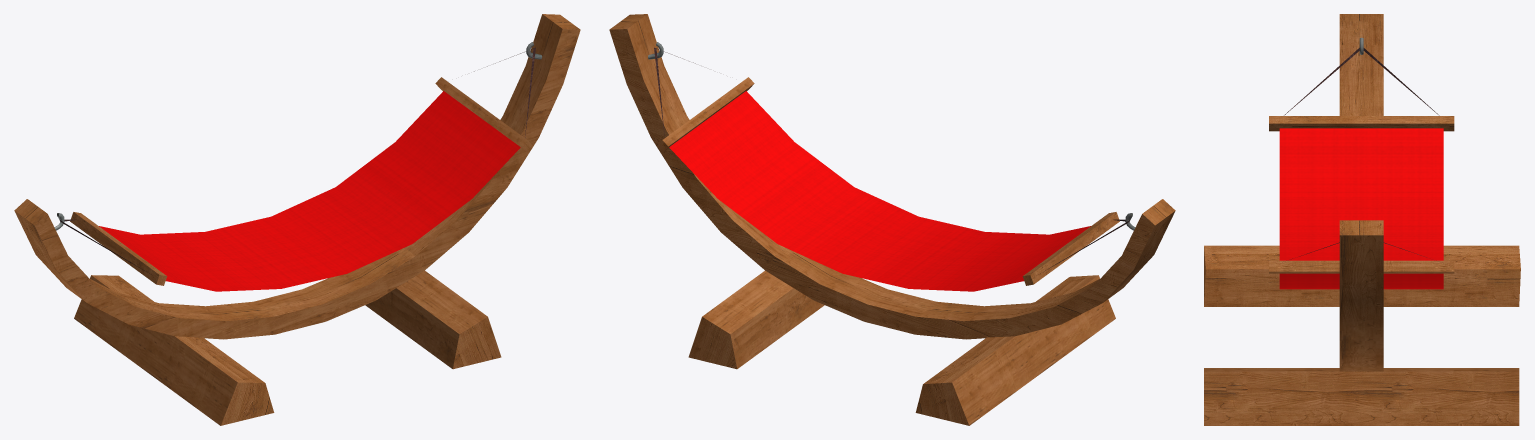
Rendered from M_Home_Garden_Bed_04.fbx.
The picture shows the model from 3 angles, left to right: view 1: azimuth 30°, elevation 25°; view 2: azimuth 150°, elevation 25°; view 3: azimuth 270°, elevation 25°; orthographic projection. The views are drawn at different scales.
Visible parts, largest first — view 1: M_Home_Garden_Bed_04; view 2: M_Home_Garden_Bed_04; view 3: M_Home_Garden_Bed_04.
Boxes of the visible parts, bbox=[...] form: M_Home_Garden_Bed_04: bbox=[14, 14, 580, 425]; M_Home_Garden_Bed_04: bbox=[609, 14, 1175, 425]; M_Home_Garden_Bed_04: bbox=[1204, 14, 1520, 425].
Size of the model in its own units: 343 by 151 by 160.
